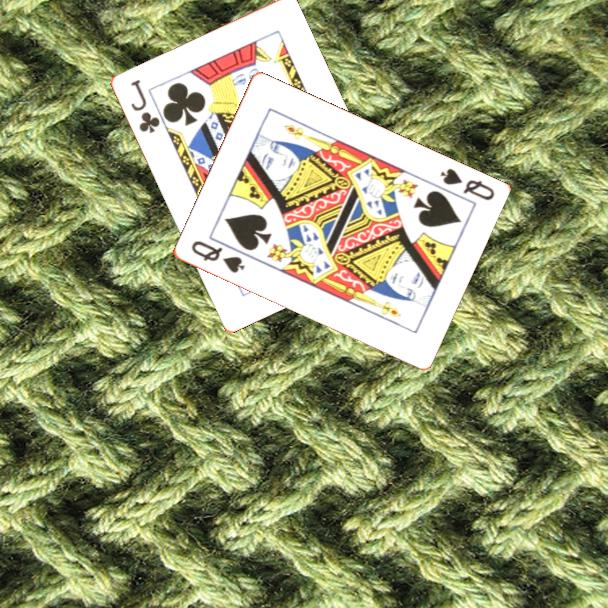c11: (127, 76, 163, 136)
s12: (187, 237, 247, 276), (436, 165, 497, 203)
